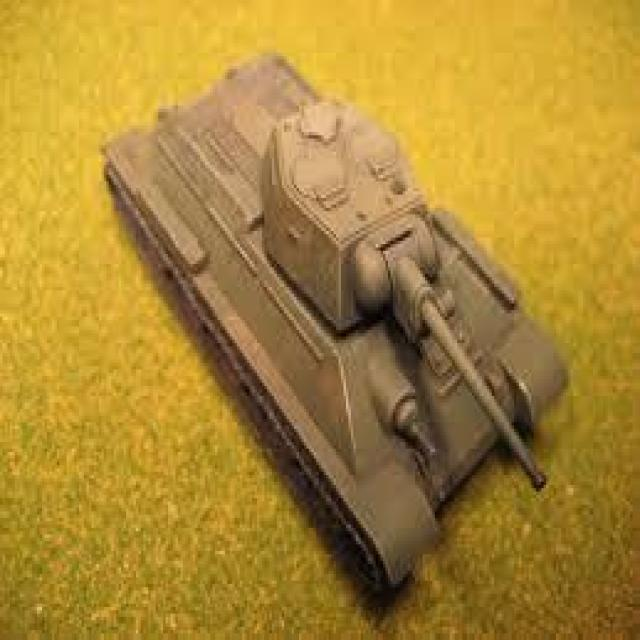Tanks: (92, 45, 580, 592)
